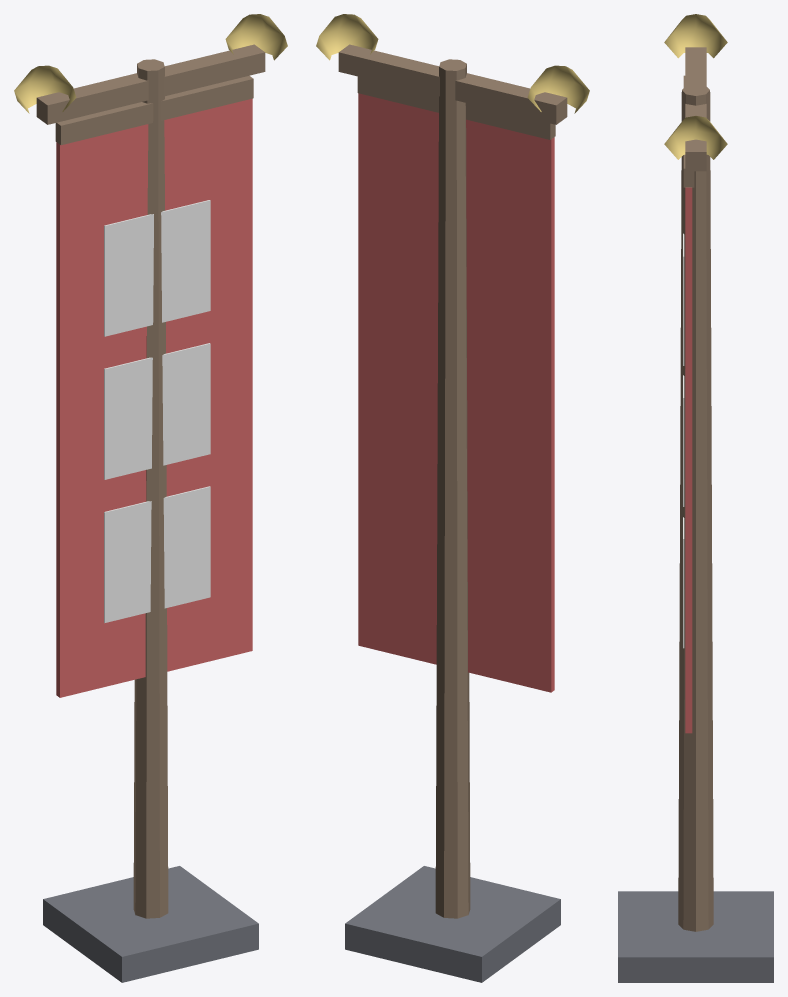
Rendered from banner_frame.glb.
The picture shows the model from 3 angles, left to right: view 1: azimuth 30°, elevation 25°; view 2: azimuth 150°, elevation 25°; view 3: azimuth 270°, elevation 25°; orthographic projection.
Parts seen in each view (by area): view 1: banner-frame; view 2: banner-frame; view 3: banner-frame.
Part boxes in pixels (x1=…): banner-frame: x1=14, y1=14, x2=287, y2=982; banner-frame: x1=316, y1=14, x2=589, y2=982; banner-frame: x1=618, y1=14, x2=773, y2=982.
Bounding box in the file's own units: 0.86 × 2.74 × 0.44.
